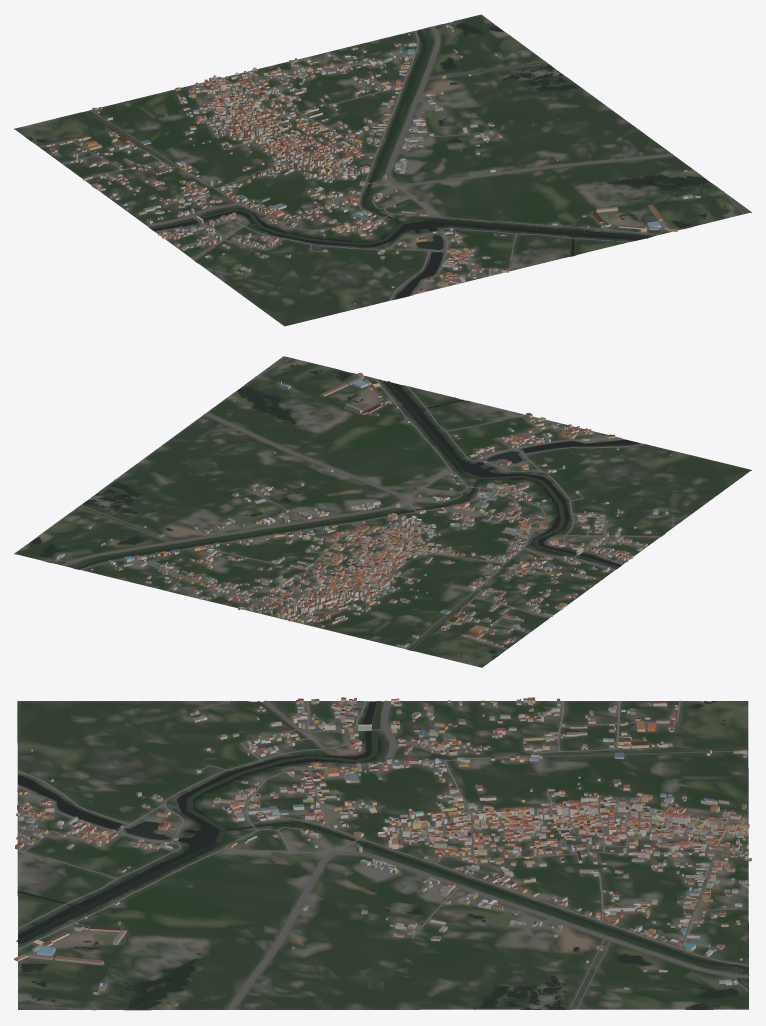
3 views of the same model, one above another, from view 1: azimuth 30°, elevation 25°; view 2: azimuth 150°, elevation 25°; view 3: azimuth 270°, elevation 25° (orthographic). The views are drawn at different scales.
Visible parts, largest first — view 1: ground, buildings, water, roads; view 2: ground, buildings, water, roads; view 3: ground, buildings, water, roads.
Boxes of the visible parts, x1,y1,x2,y2 form: ground: (14,14,751,326); buildings: (45,25,700,304); water: (26,22,730,298); roads: (39,20,743,300); ground: (14,356,751,667); buildings: (56,372,671,648); water: (29,364,663,659); roads: (40,358,673,649); ground: (17,701,748,1010); buildings: (14,697,751,1005); water: (16,701,748,1009); roads: (17,700,749,1010).
Bounding box in the file's own units: 1407 × 26.1 × 1415.
